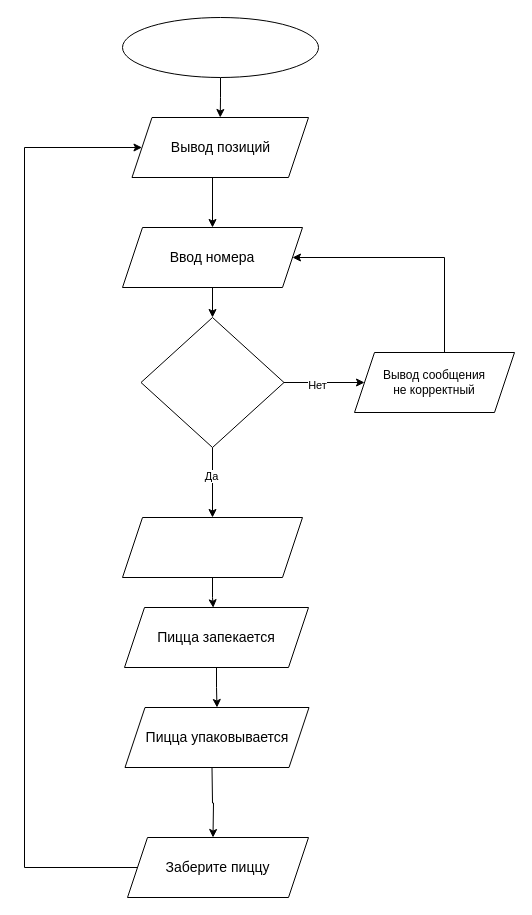
The diagram is 532 pixels wide and 915 high, and some of its shapes have lost their labels. Each missing label, with the box of its shape:
Корректный ли ввод?: (140, 316, 284, 448)
Начало Запуск консоли: (122, 16, 318, 78)
Пицца собирается: (122, 516, 302, 578)
